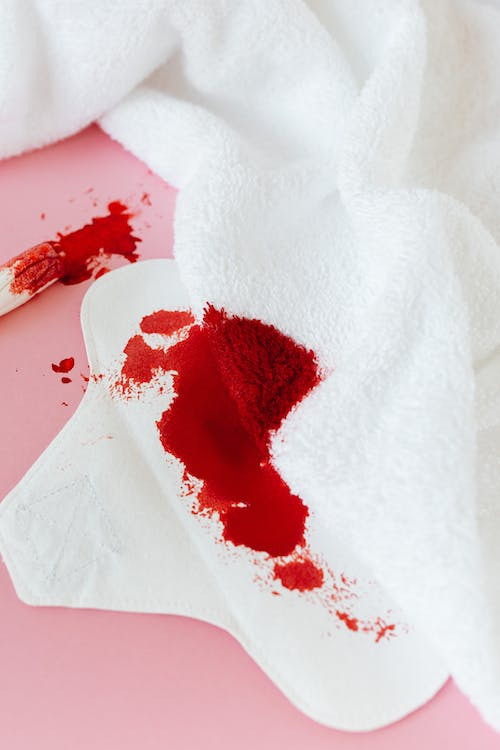blood: (49, 299, 415, 650), (0, 166, 156, 298)
